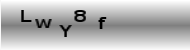8: (73, 9, 88, 23)
L: (18, 7, 34, 23)
Y: (58, 23, 73, 38)
f: (97, 15, 108, 31)
w: (34, 17, 52, 28)
